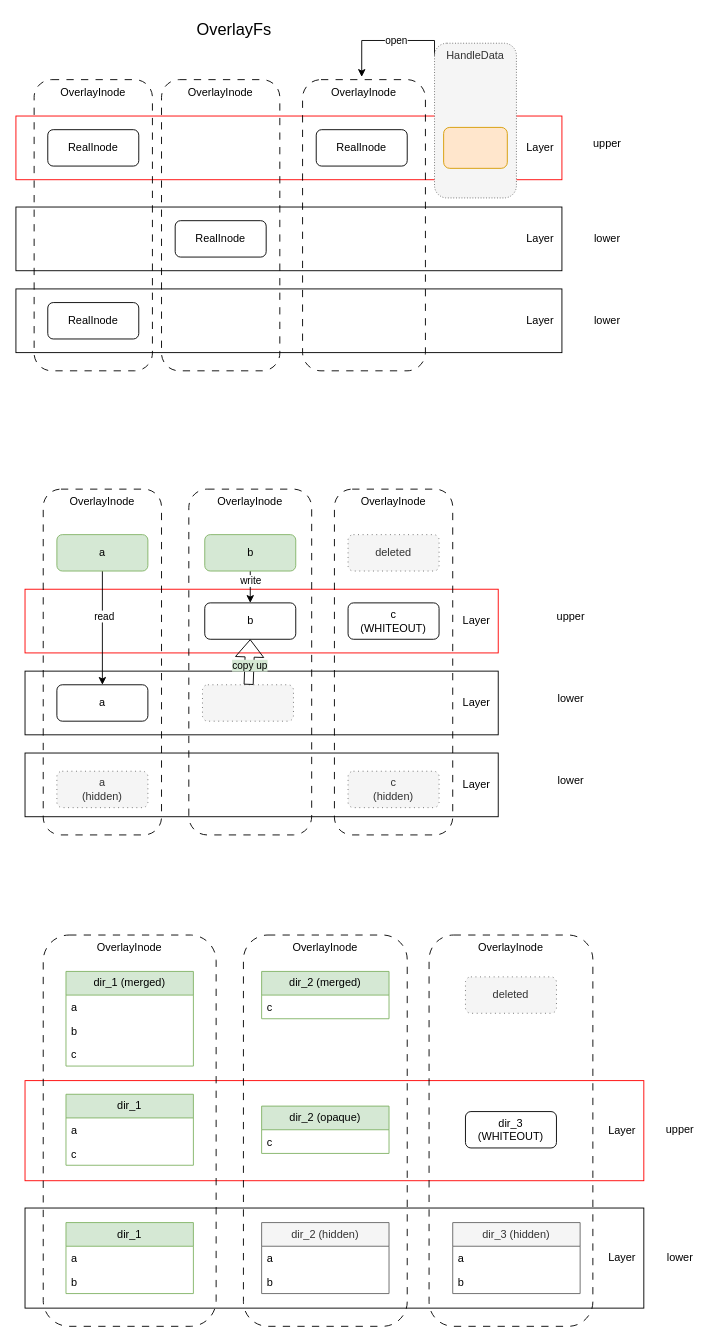
This 723x1342 diagram has some shape labels left out. Here are the shapes that lost their labels. From the top down, the centre of each, then its label:
At pixel 475 147: "RealHandle".
At pixel 247 702: "b (hidden)".
